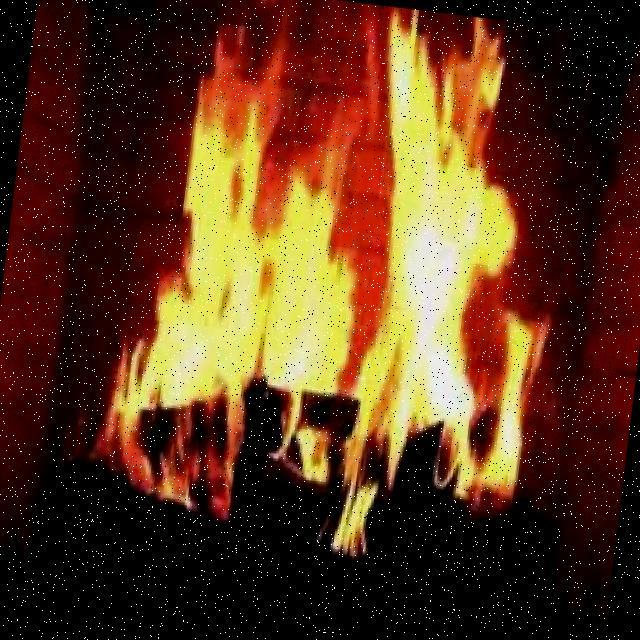Fire: (152, 66, 552, 524)
